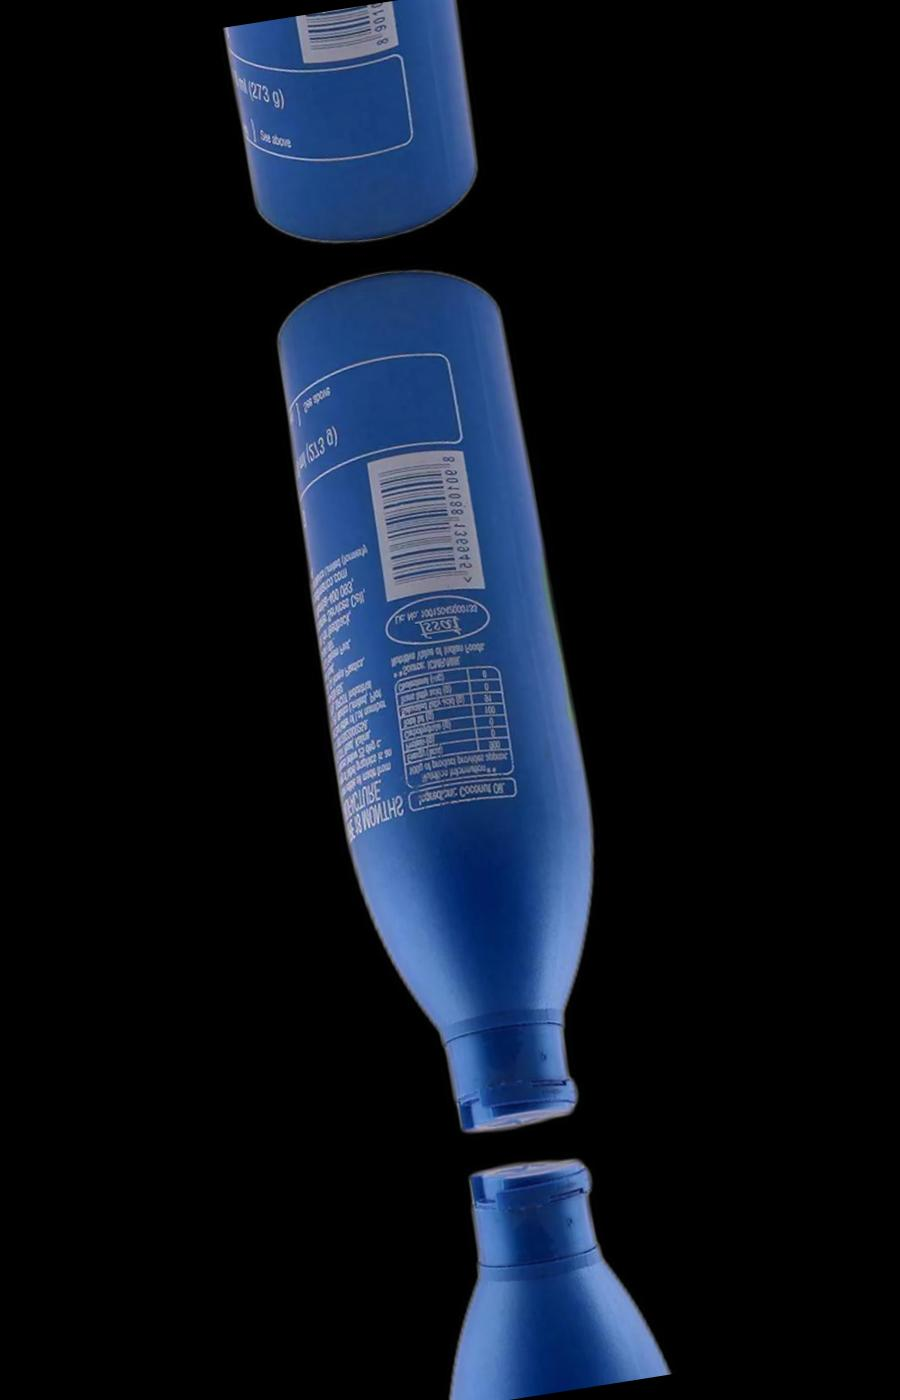Parachute Coconut Oil 300 ml: (255, 254, 634, 1154), (395, 1137, 676, 1400), (213, 0, 492, 259)
